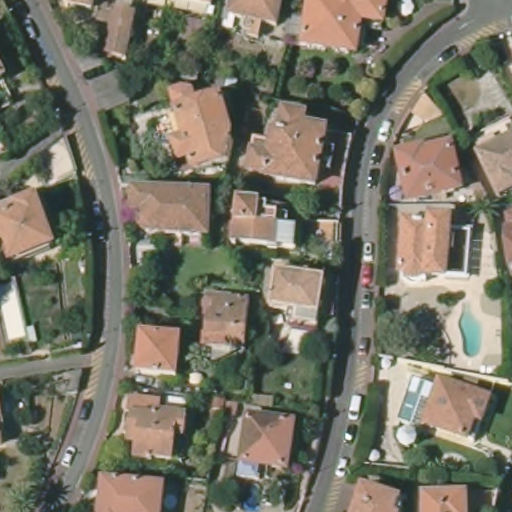pool: (400, 373, 435, 431), (456, 301, 485, 359)
